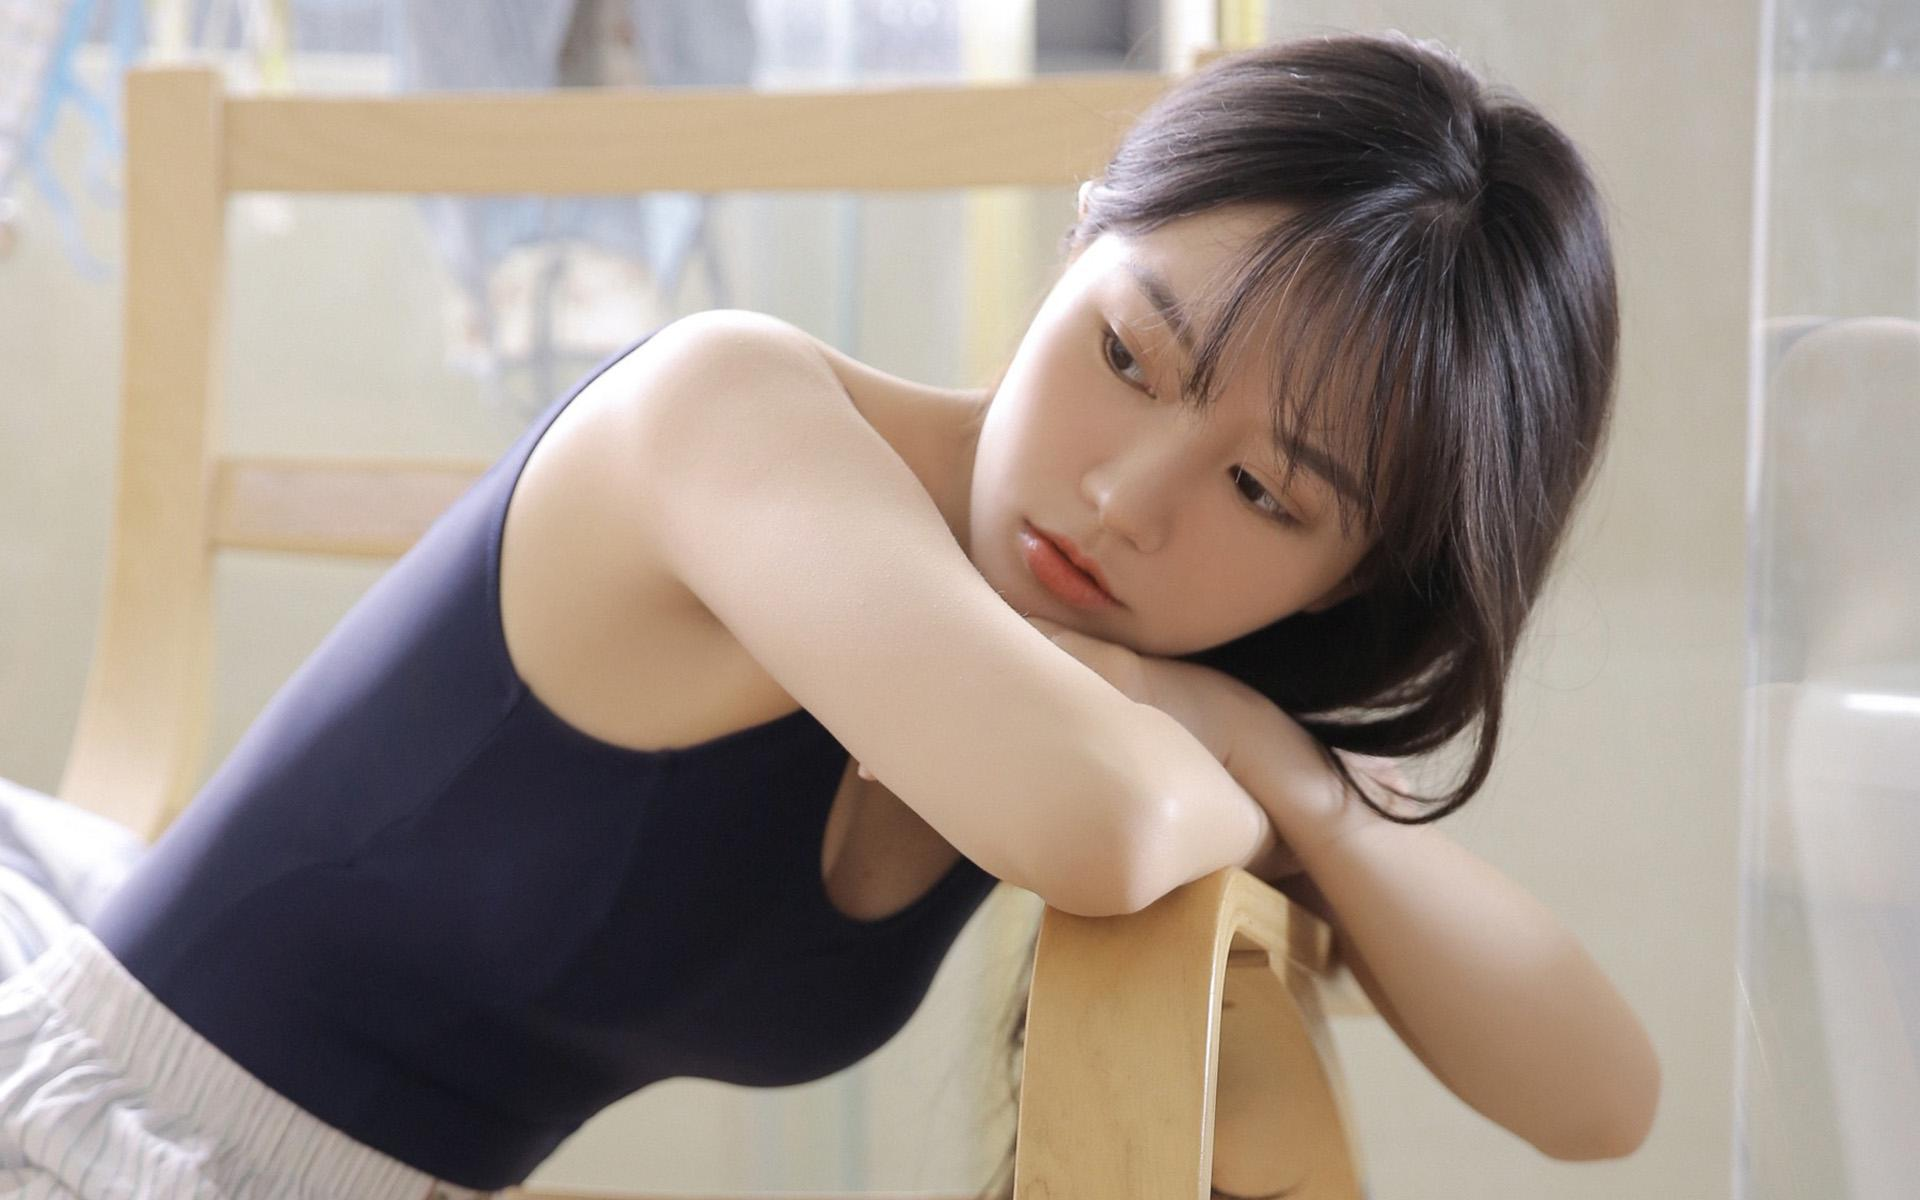person: (498, 87, 1712, 1102)
